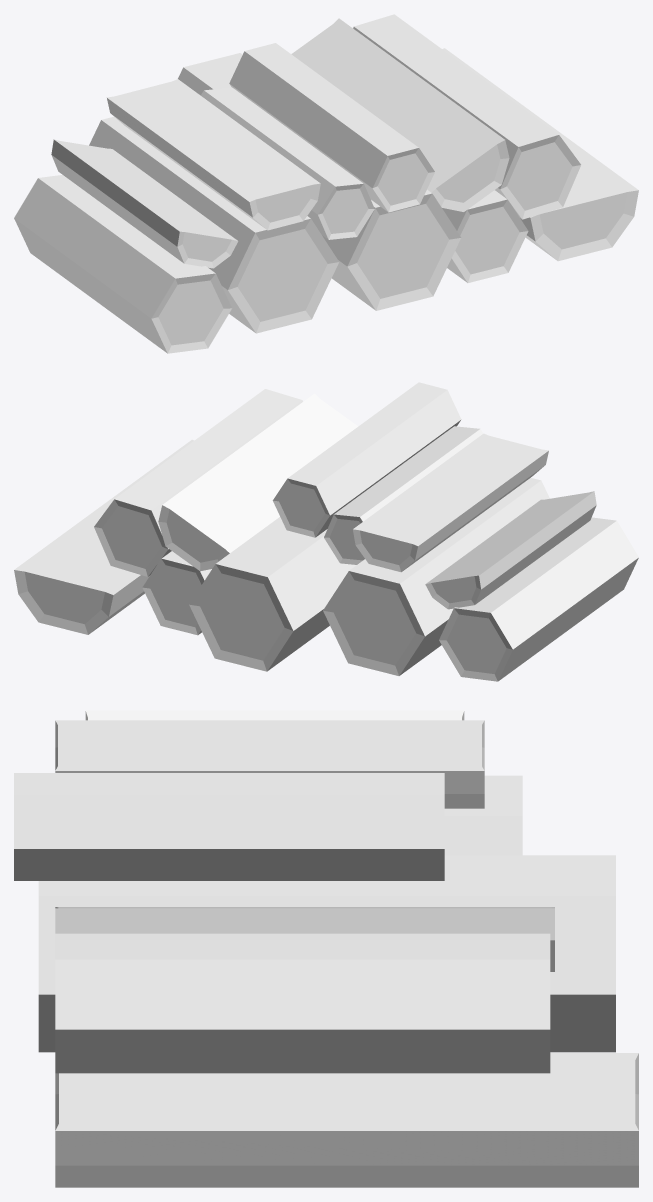
Rendered from Prop_Wood_Pile_01.glb.
3 views of the same model, one above another, from view 1: azimuth 30°, elevation 25°; view 2: azimuth 150°, elevation 25°; view 3: azimuth 270°, elevation 25° (orthographic). The views are drawn at different scales.
Parts seen in each view (by area): view 1: Prop_Wood_Pile_01; view 2: Prop_Wood_Pile_01; view 3: Prop_Wood_Pile_01.
Boxes of the visible parts, x1,y1,x2,y2 form: Prop_Wood_Pile_01: (14, 14, 638, 353); Prop_Wood_Pile_01: (14, 382, 638, 681); Prop_Wood_Pile_01: (14, 710, 638, 1187).
Bounding box in the file's own units: 0.8696 × 0.2773 × 0.6425.
1 material, 1 textured.
